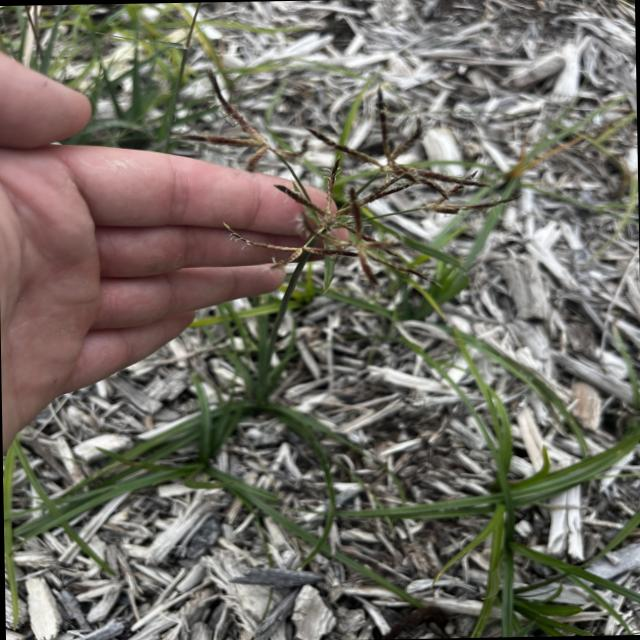cyperus: (204, 61, 516, 337)
